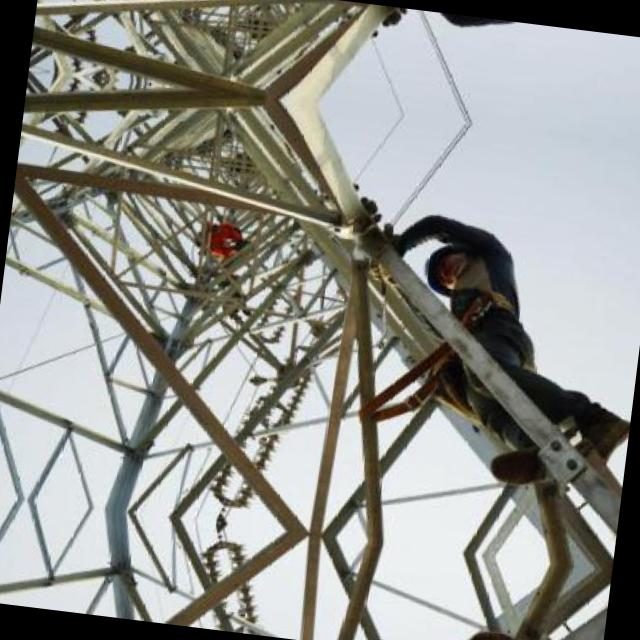helmet: (418, 237, 483, 296)
